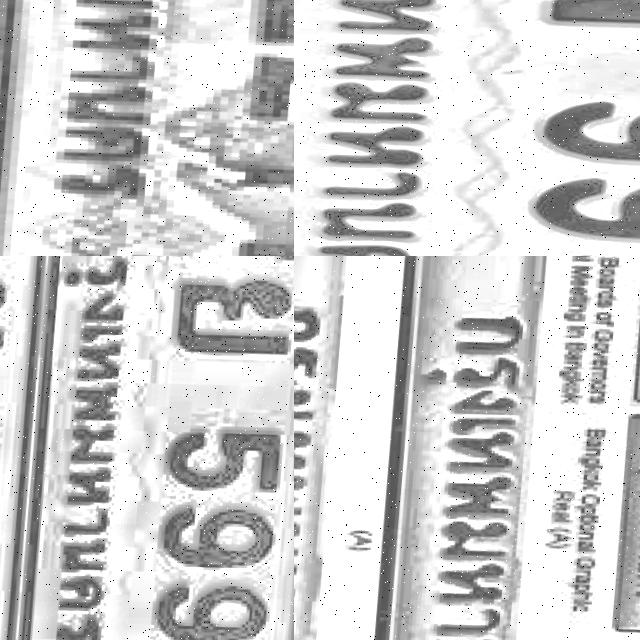license-plate: (4, 256, 294, 640), (294, 0, 640, 256), (0, 0, 294, 256), (0, 256, 66, 640), (600, 406, 640, 640)
